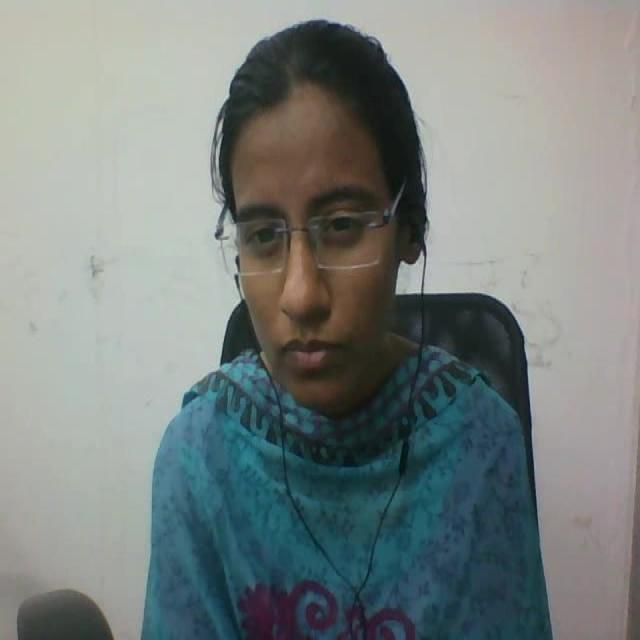Bored: (193, 14, 464, 435)
